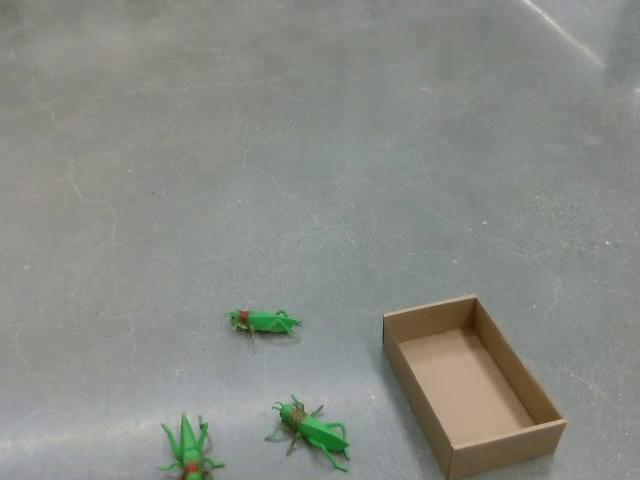box: (381, 293, 567, 479)
grasshopper: (264, 393, 351, 472), (157, 413, 225, 479), (223, 307, 302, 339)
